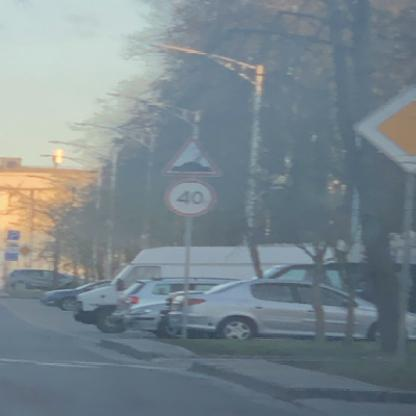Speed Limit 40: (168, 178, 216, 219)
